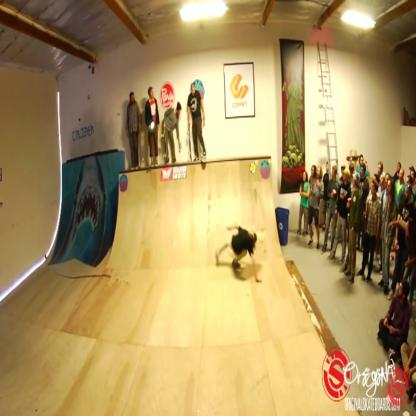Fall_Down: (214, 223, 264, 288)
